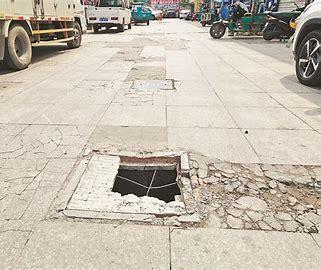wellcover: (64, 137, 226, 238)
